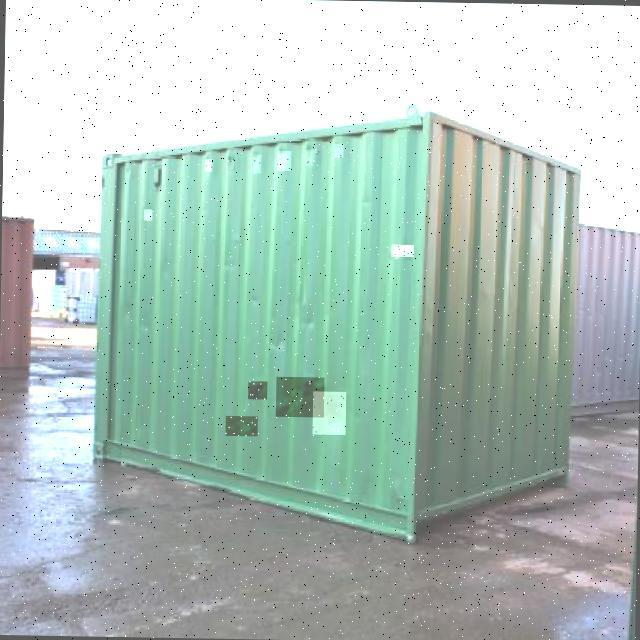Minor-Dent: (275, 376, 324, 417), (312, 391, 346, 435), (223, 415, 257, 436), (248, 381, 267, 399), (391, 245, 413, 259), (277, 151, 291, 171), (305, 146, 319, 166), (253, 154, 261, 173), (226, 157, 235, 171), (334, 144, 343, 158), (205, 160, 212, 174), (144, 209, 152, 220)
